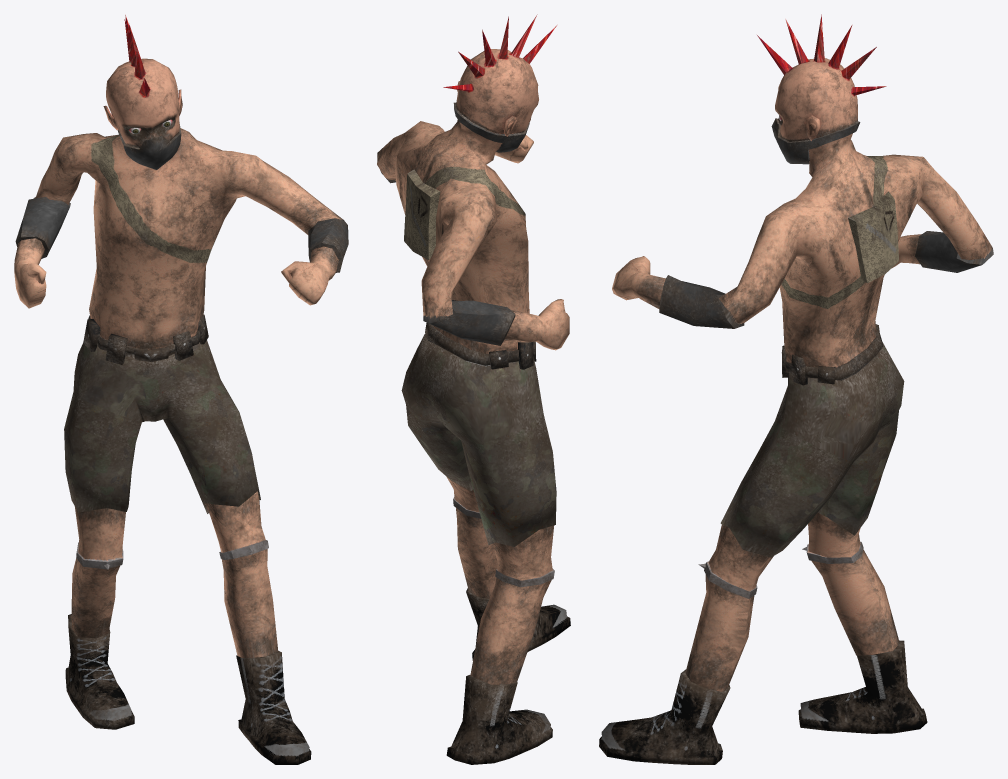
Rendered from Anim_ataque_d2_npc2.0016.obj.
The picture shows the model from 3 angles, left to right: view 1: azimuth 30°, elevation 25°; view 2: azimuth 150°, elevation 25°; view 3: azimuth 270°, elevation 25°; orthographic projection. The views are drawn at different scales.
Parts seen in each view (by area): view 1: polySurface1; view 2: polySurface1; view 3: polySurface1.
Boxes of the visible parts, left/top/right/bottom form: polySurface1: left=14, top=15, right=348, bottom=764; polySurface1: left=377, top=14, right=570, bottom=764; polySurface1: left=599, top=14, right=993, bottom=764.
Bounding box in the file's own units: 3.79 × 9.89 × 4.94.
